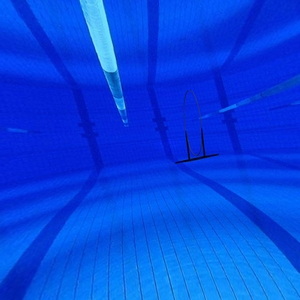circle: (174, 88, 221, 167)
